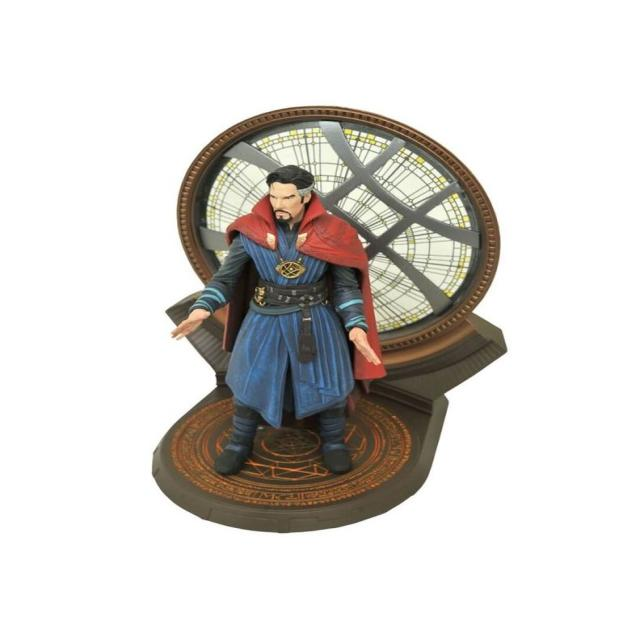glasses: (208, 160, 412, 468)
